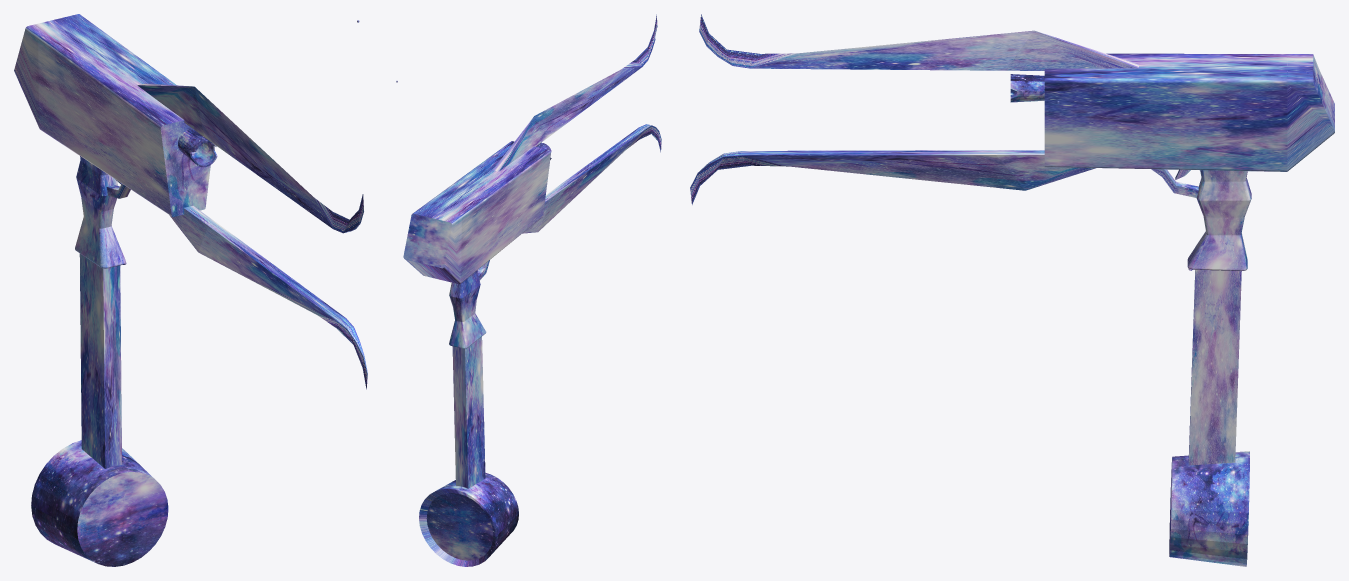
File: paintrain.fbx
The picture shows the model from 3 angles, left to right: view 1: azimuth 30°, elevation 25°; view 2: azimuth 150°, elevation 25°; view 3: azimuth 270°, elevation 25°; orthographic projection. The views are drawn at different scales.
Visible parts, largest first — view 1: Cube; view 2: Cube; view 3: Cube.
Part boxes in pixels (<box>): Cube: <box>14,14,367,566</box>; Cube: <box>396,14,661,566</box>; Cube: <box>690,14,1334,566</box>.
Bounding box in the file's own units: 2070 × 4729 × 5037.
